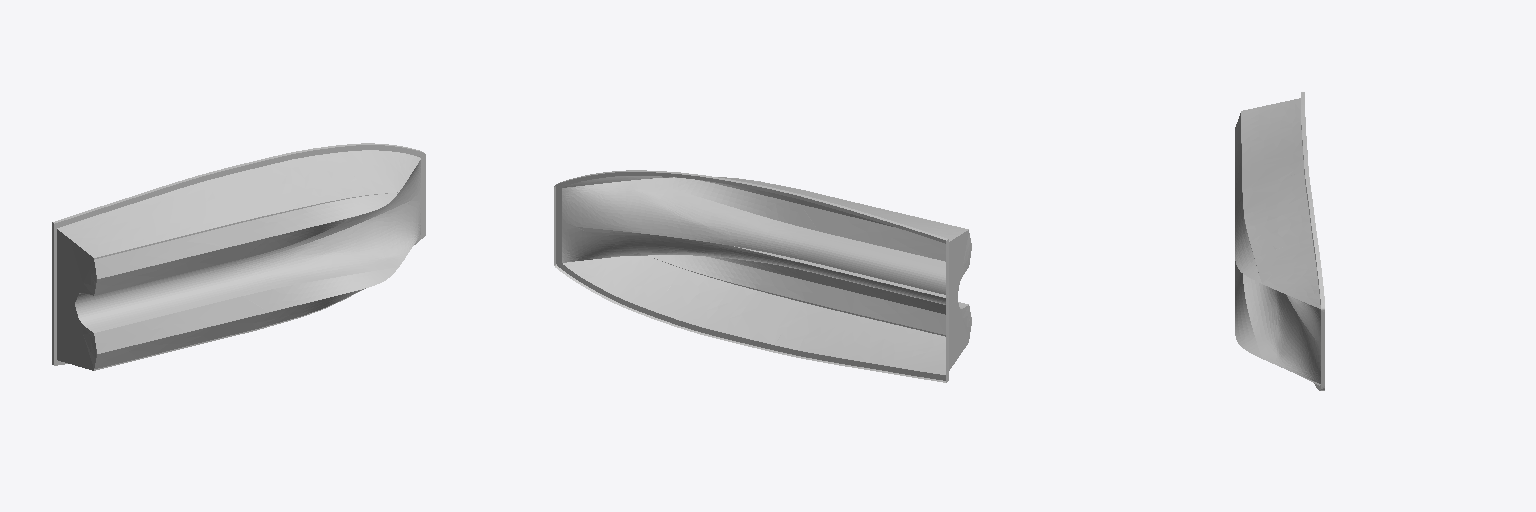
The model's file is zest_test.obj.
3 views of the same model, side by side, from view 1: azimuth 30°, elevation 25°; view 2: azimuth 150°, elevation 25°; view 3: azimuth 270°, elevation 25° (orthographic).
Parts seen in each view (by area): view 1: ZEST_-_Final; view 2: ZEST_-_Final; view 3: ZEST_-_Final.
Part boxes in pixels (x1,y1,x2,y2): ZEST_-_Final: (52, 143, 425, 370); ZEST_-_Final: (554, 170, 971, 382); ZEST_-_Final: (1235, 92, 1324, 390).
Size of the model in its own units: 8.21 by 3.34 by 1.69.